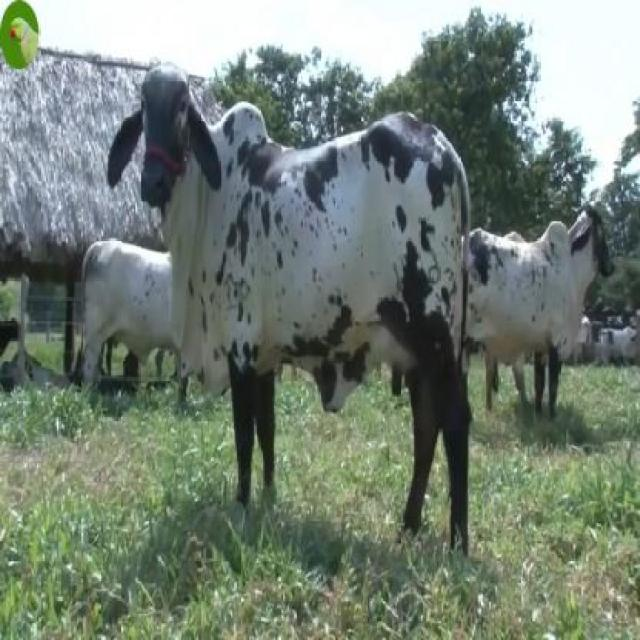Cow: (110, 65, 472, 580)
